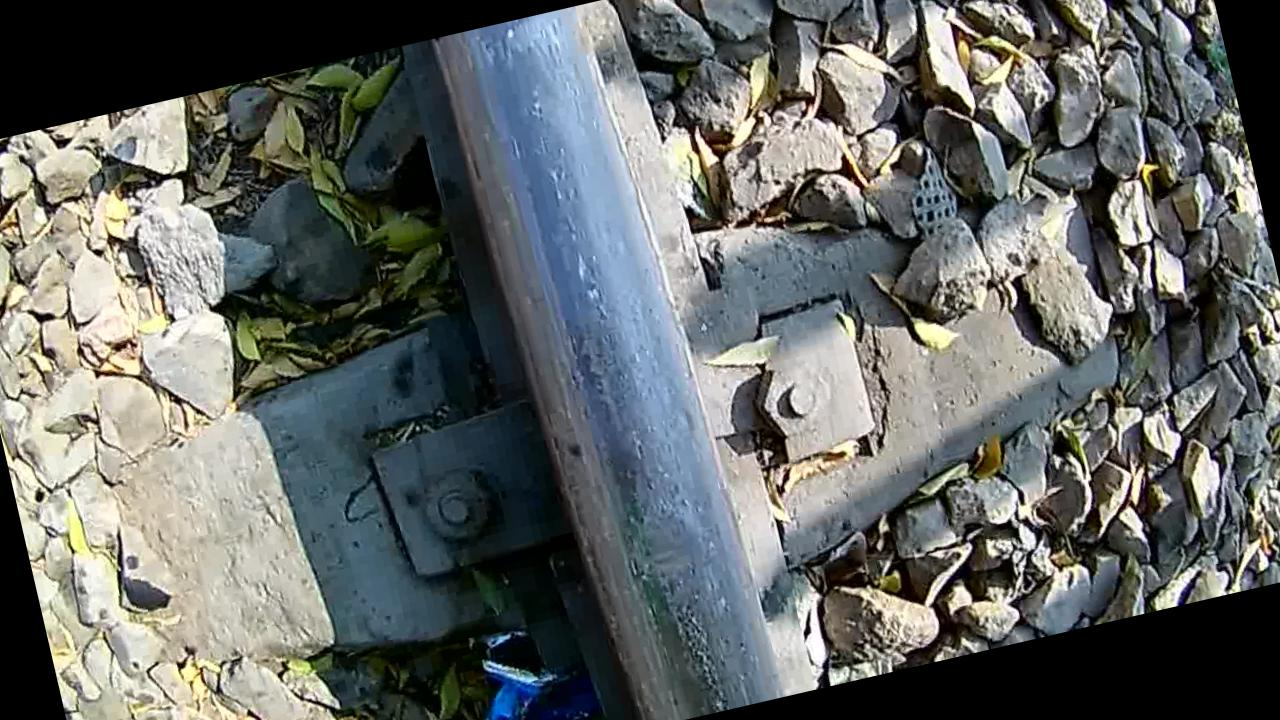bolt_missing: (524, 276, 769, 720)
